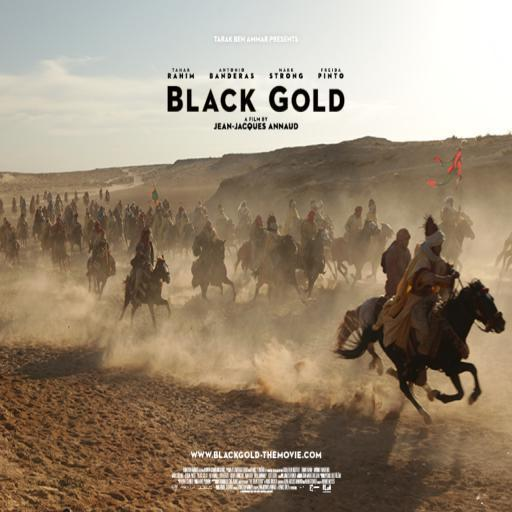horse: (331, 278, 507, 426), (0, 191, 231, 277), (232, 209, 396, 311), (334, 297, 434, 404), (116, 252, 175, 330), (332, 218, 382, 287), (254, 231, 302, 298), (191, 237, 238, 302), (300, 224, 332, 298), (444, 216, 476, 272), (362, 221, 392, 278), (88, 242, 116, 302)
